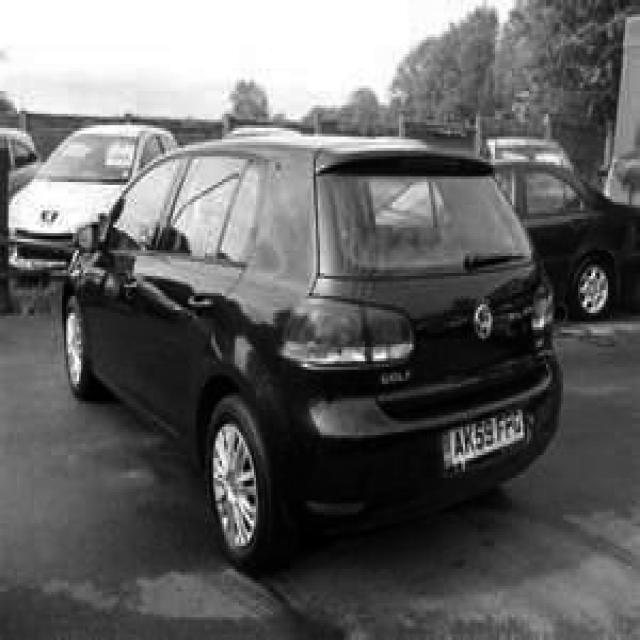car: (60, 122, 563, 572)
plat_license: (444, 404, 527, 469)
